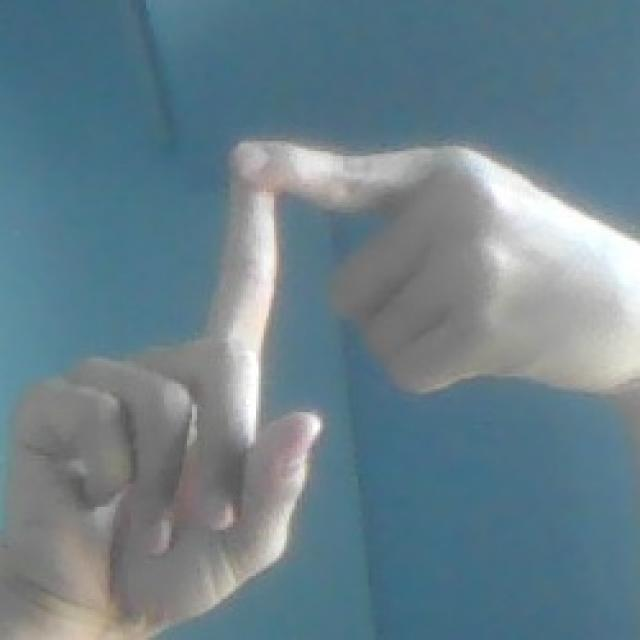Alphabet-E: (0, 143, 640, 640)
